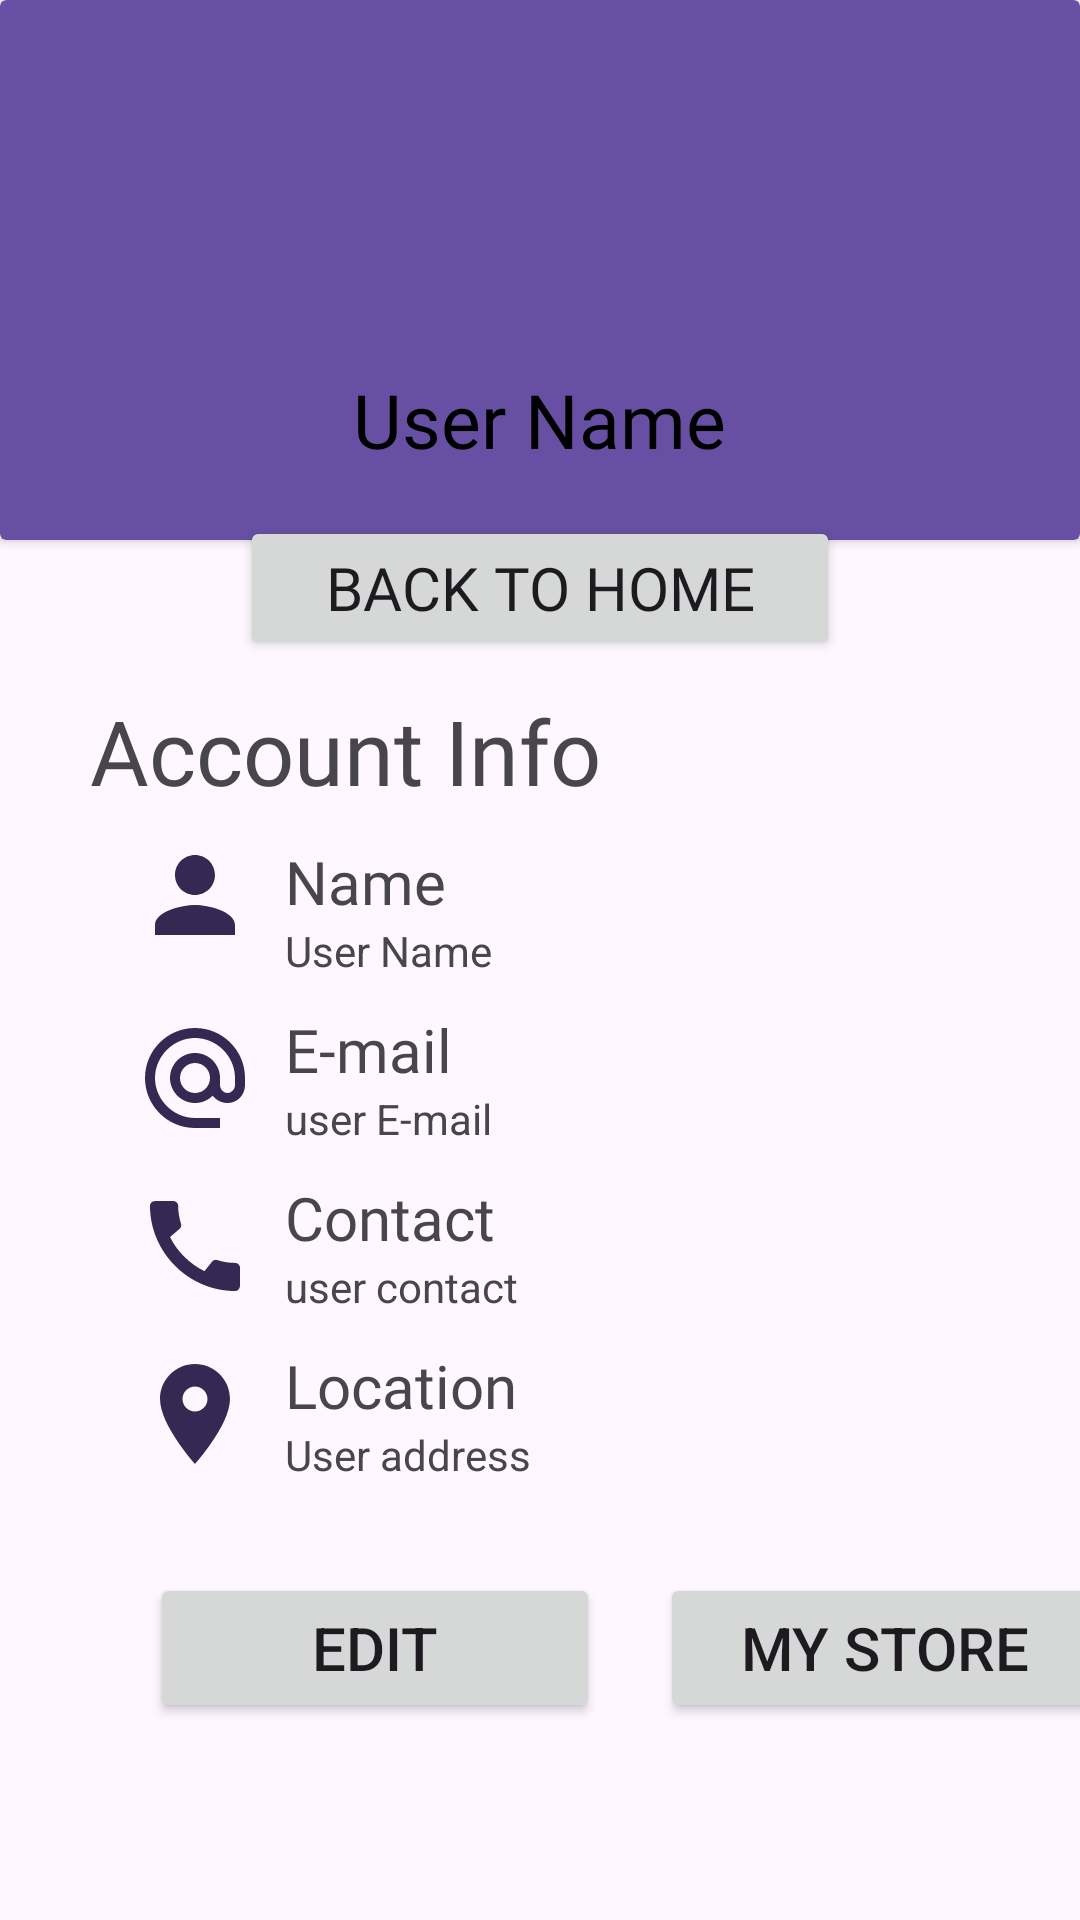

Screen size 1080 x 1920. Icon name, then its box in pixels as (x1, y1, x2, y2):
call: (150, 1201, 240, 1291)
